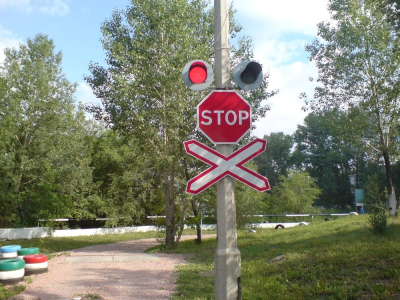stop: (199, 96, 252, 138)
